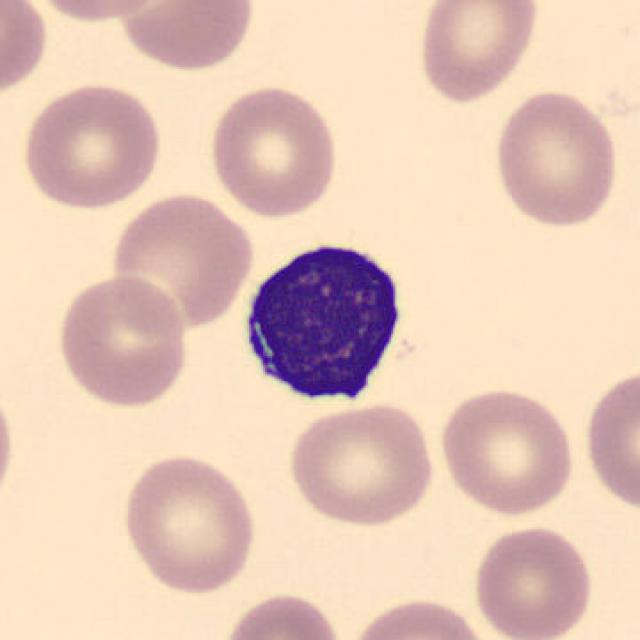Lymphocyte: (231, 228, 420, 416)
RBC: (106, 189, 258, 333), (118, 450, 260, 596), (285, 400, 439, 529), (489, 85, 622, 231), (18, 80, 165, 212), (205, 81, 342, 220), (54, 271, 190, 411), (436, 384, 578, 516), (470, 522, 598, 640), (414, 0, 544, 106), (113, 0, 260, 74), (580, 363, 638, 515), (217, 589, 348, 640), (347, 594, 492, 640), (0, 0, 51, 102), (23, 0, 178, 25), (0, 374, 20, 516)
